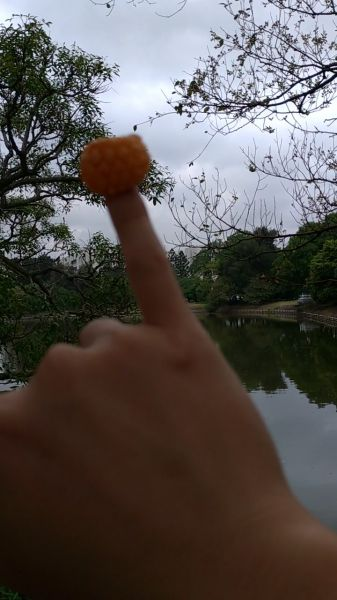eggs: (76, 136, 155, 196)
